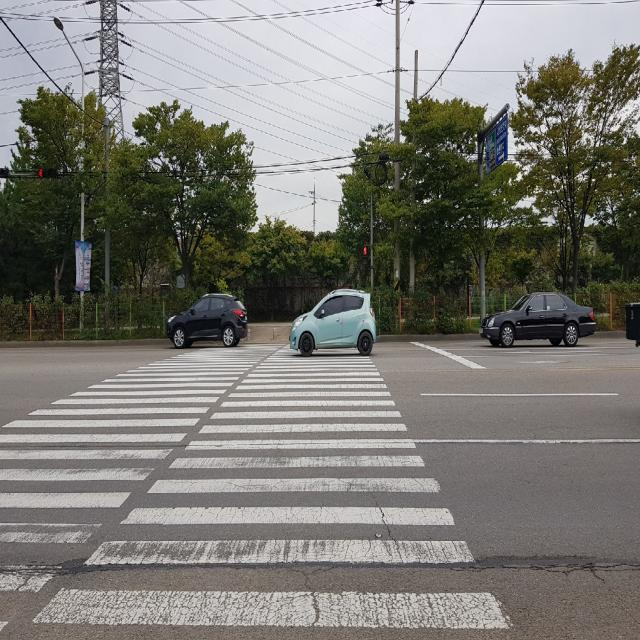빨간불: (362, 239, 371, 277)
횡단보도: (0, 344, 517, 639)
